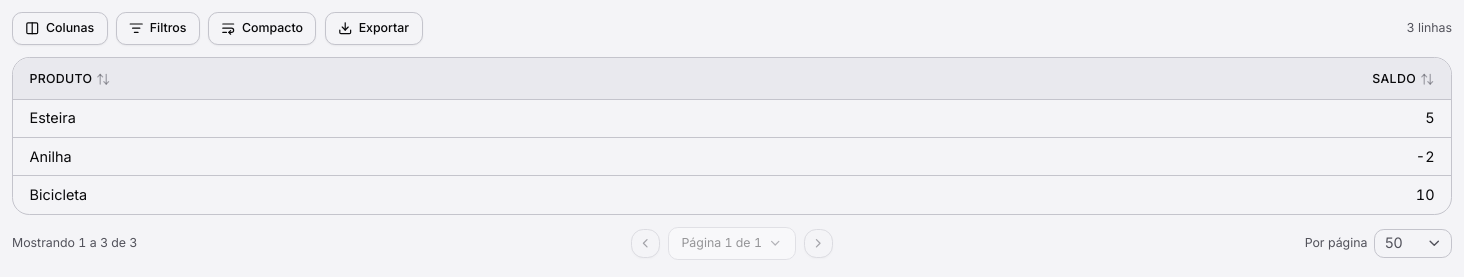
Test: DataTable multi-sort (c1) › ordena coluna textual , Anilha vem primeiro na asc
The width and height of the screenshot is (1464, 277).
Step 1. Click the button with aria-label "Ordenar por Produto" → coordinates (70, 79), box [30, 70, 111, 87]
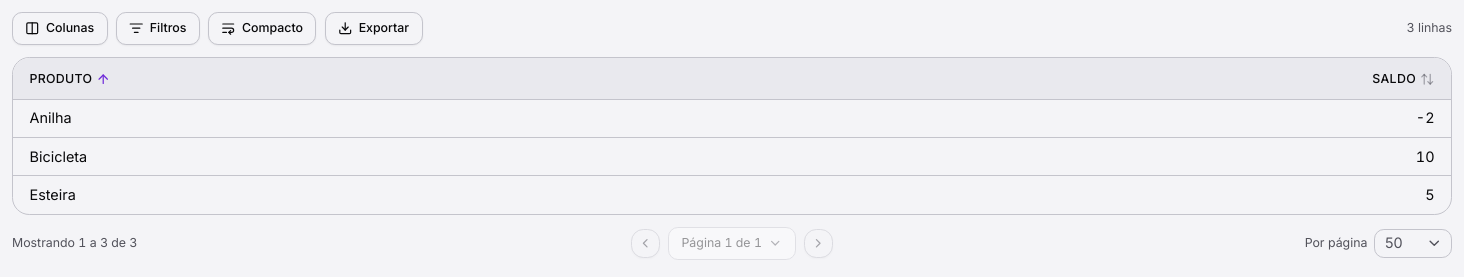
Expected: the cell "Anilha" is shown, [13, 100, 798, 138]
